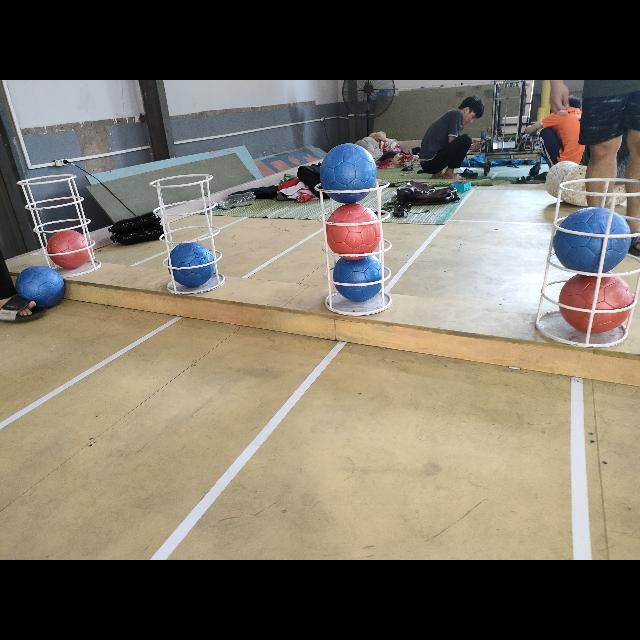B: (554, 207, 632, 277), (320, 144, 376, 202), (332, 248, 383, 302), (15, 265, 64, 308), (169, 242, 213, 288)
R: (558, 274, 634, 334), (324, 204, 382, 260), (47, 228, 89, 268)
